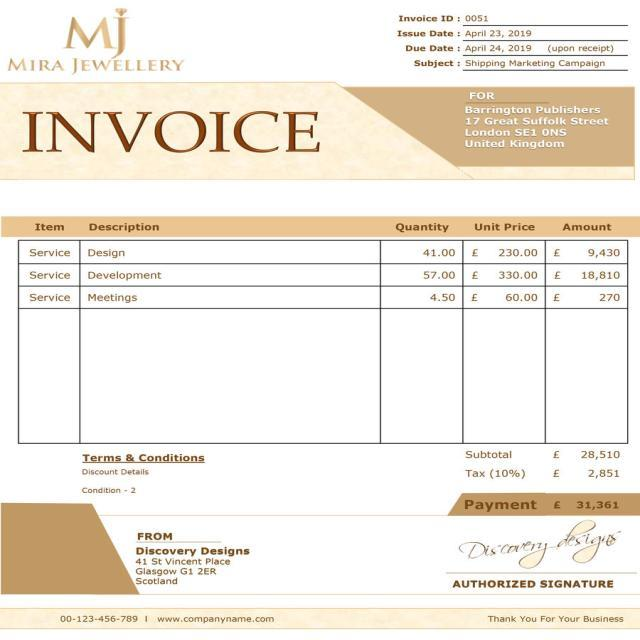ROI: (6, 203, 632, 322), (17, 94, 341, 163), (384, 4, 632, 82), (1, 4, 209, 84), (438, 518, 631, 594), (454, 87, 621, 167), (453, 448, 632, 517), (116, 523, 261, 588), (76, 451, 216, 505), (52, 604, 293, 630), (481, 599, 630, 629)
